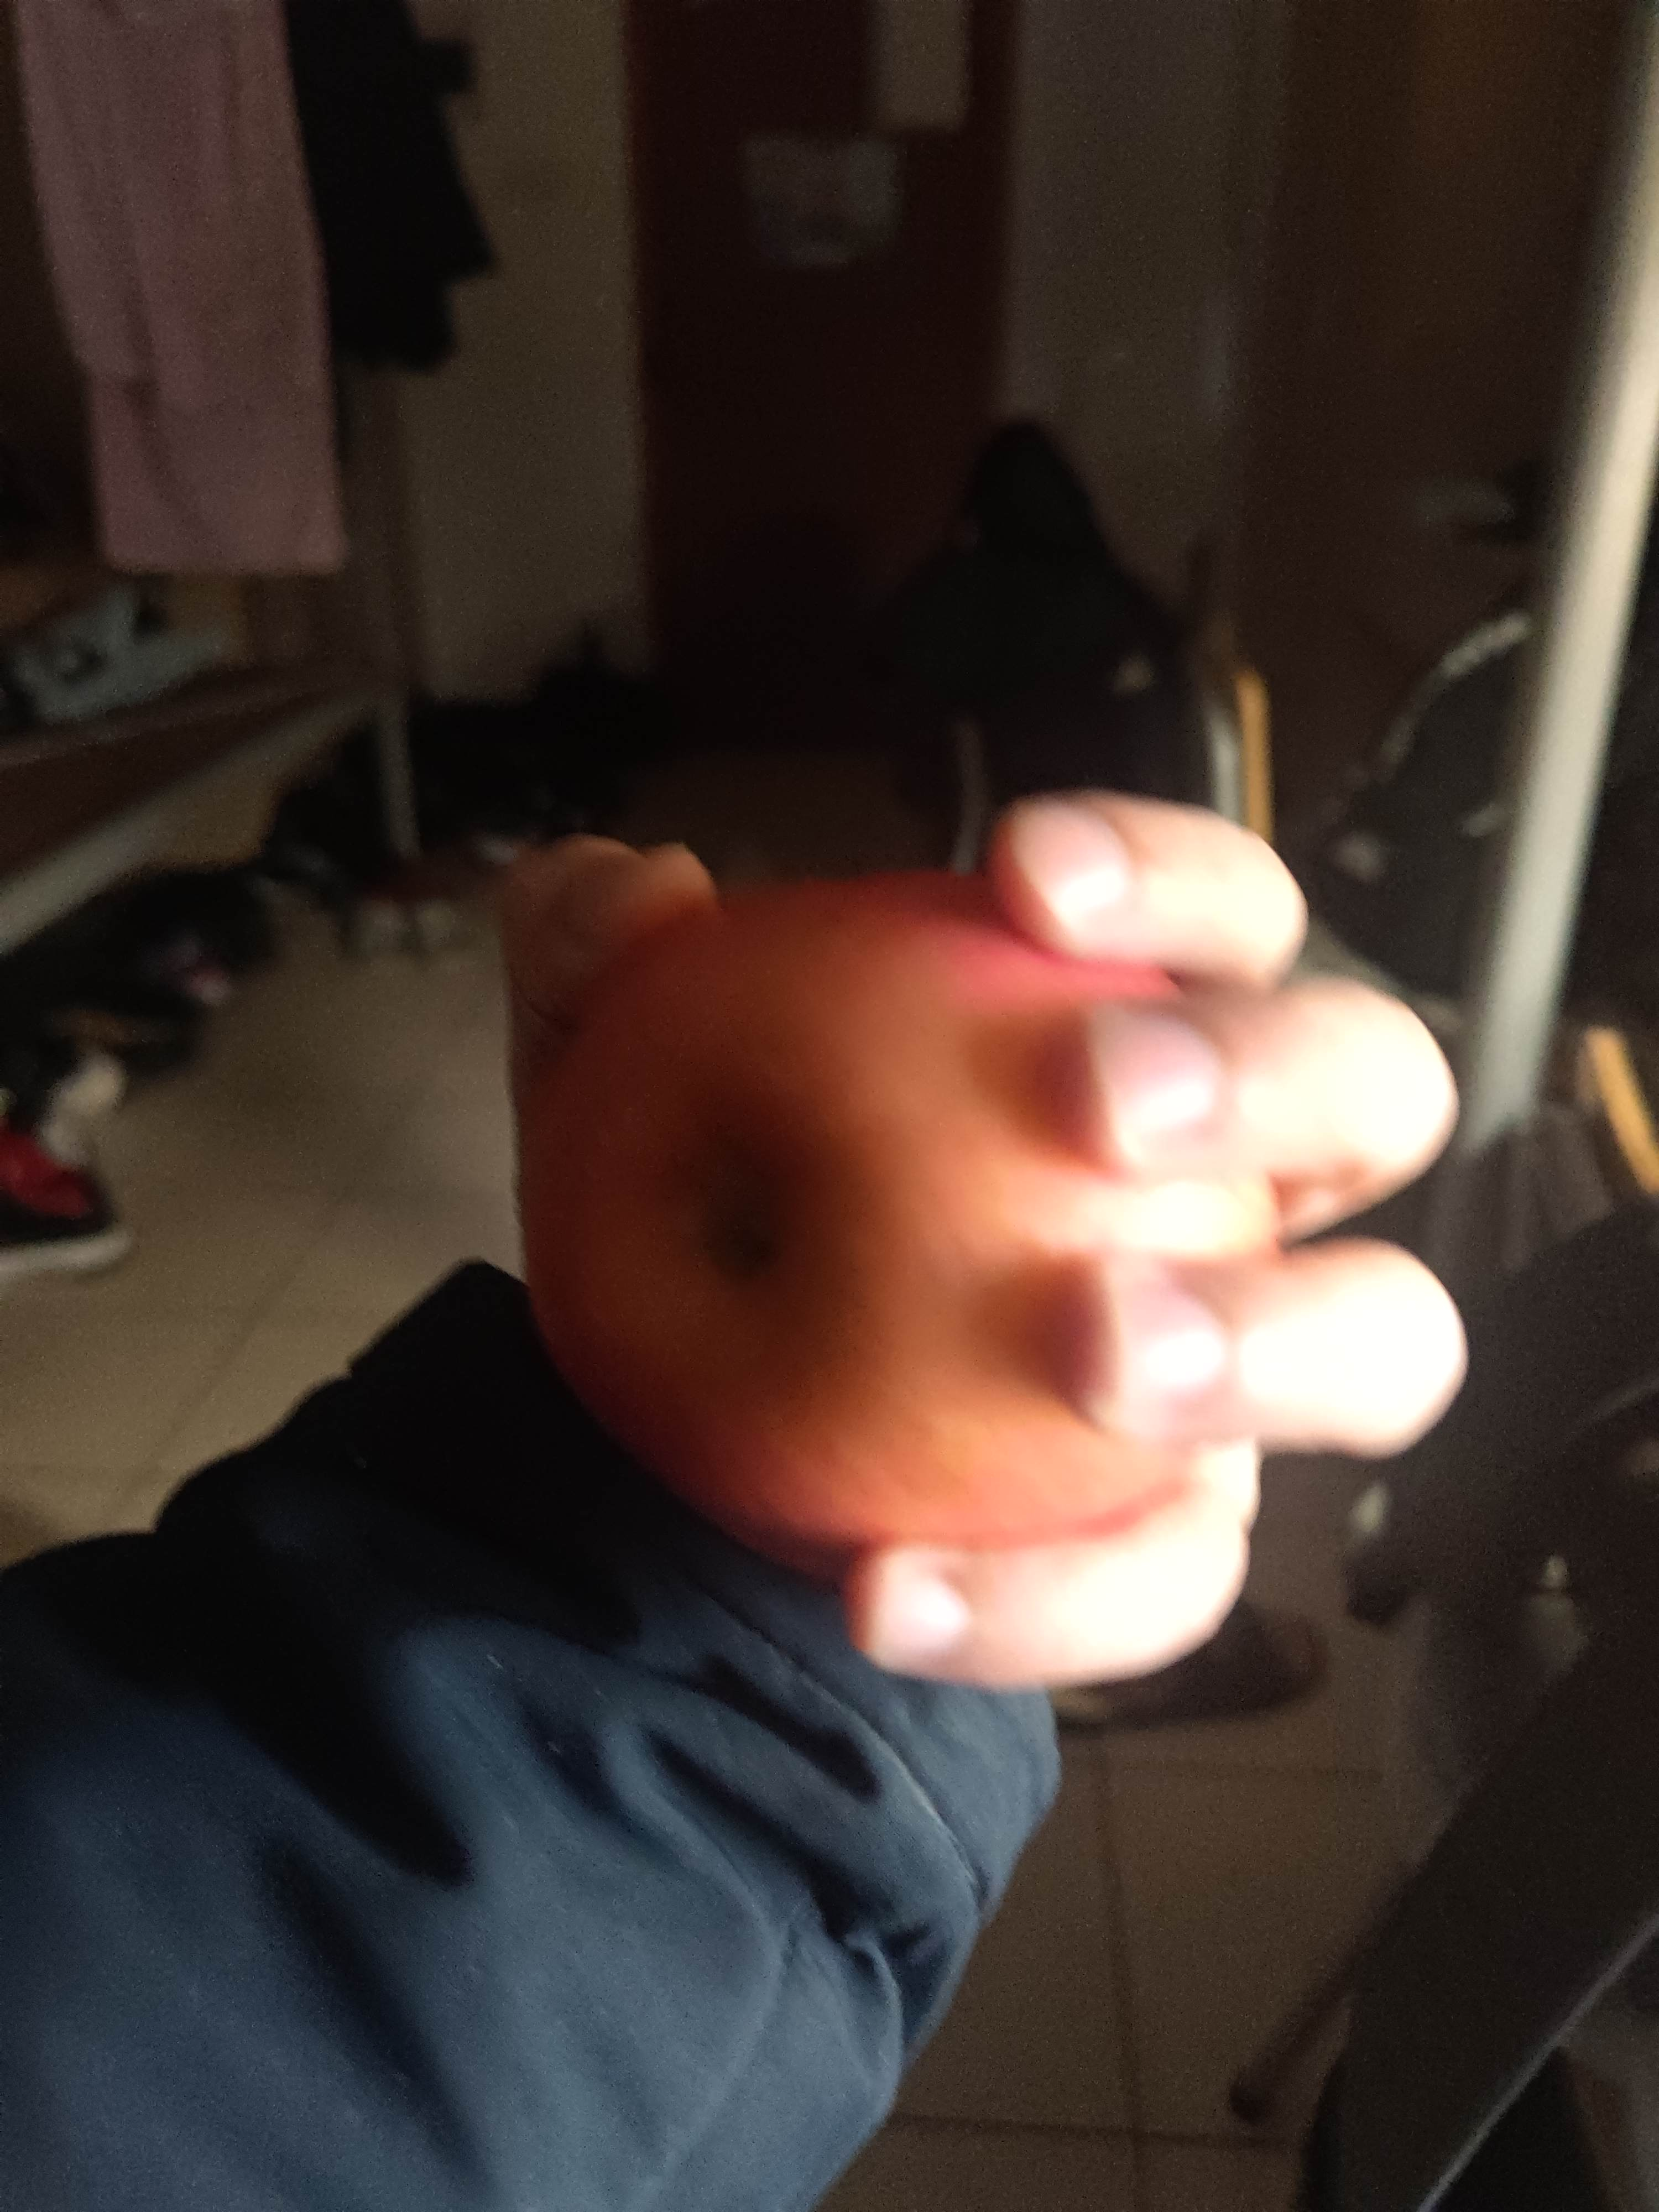apple: (509, 850, 1309, 1581)
